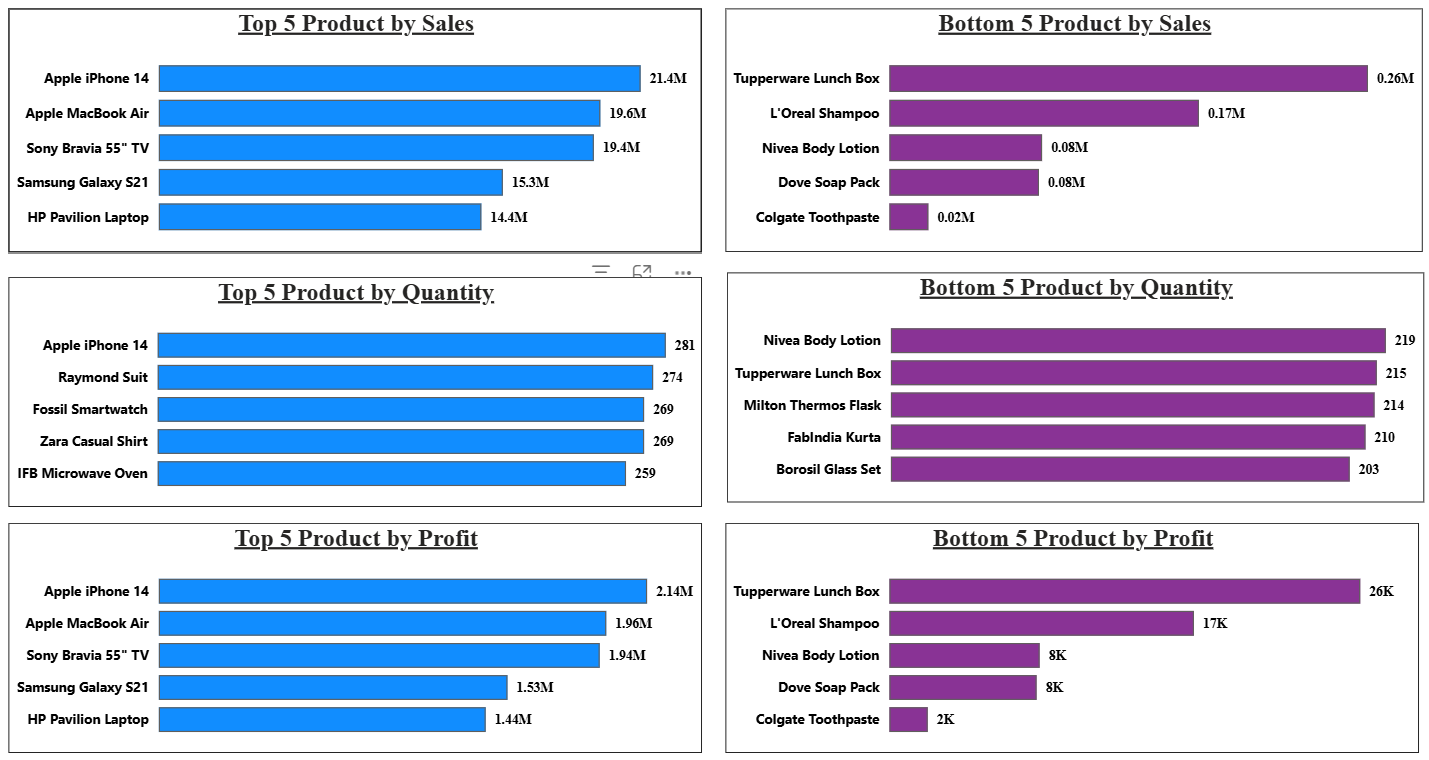

Layout of this report page (visuals, bound fields, positions):
{"tool":"powerbi","page":{"name":"Top/Bottom 5 Analysis","canvas":[1280,720],"ordinal":1},"visuals":[{"type":"barChart","title":"Top 5 Product by Sales","fields":{"Category":["Dim Product.Product Name"],"Y":["Sum(Fact Table.Net Sales)"]},"box":[16.7,25.8,613.6,215.2],"z":0},{"type":"barChart","title":"Bottom 5 Product by Sales","fields":{"Category":["Dim Product.Product Name"],"Y":["Sum(Fact Table.Net Sales)"]},"box":[651.5,25.8,616.7,215.2],"z":1000},{"type":"barChart","title":"Top 5 Product by Quantity","fields":{"Category":["Dim Product.Product Name"],"Y":["Sum(Fact Table.Units Sold)"]},"box":[16.7,262.1,613.6,203],"z":2000},{"type":"barChart","title":"Bottom 5 Product by Quantity","fields":{"Category":["Dim Product.Product Name"],"Y":["Sum(Fact Table.Units Sold)"]},"box":[653,259.1,616.7,203],"z":3000},{"type":"barChart","title":"Top 5 Product by Profit","fields":{"Category":["Dim Product.Product Name"],"Y":["Sum(Fact Table.Profit)"]},"box":[16.7,480.3,613.6,203],"z":4000},{"type":"barChart","title":"Bottom 5 Product by Profit","fields":{"Category":["Dim Product.Product Name"],"Y":["Sum(Fact Table.Profit)"]},"box":[651.5,480.3,613.6,203],"z":5000}]}

Visuals, with their boxes on the page's 1280x720 design canvas (x1, y1, x2, y2). These are canvas units, not pixel positions in the 1429x760 screenshot, which may show the page scaled, cropped or inside an application window:
"Top 5 Product by Sales" barChart: bbox(17, 26, 630, 241)
"Bottom 5 Product by Sales" barChart: bbox(652, 26, 1268, 241)
"Top 5 Product by Quantity" barChart: bbox(17, 262, 630, 465)
"Bottom 5 Product by Quantity" barChart: bbox(653, 259, 1270, 462)
"Top 5 Product by Profit" barChart: bbox(17, 480, 630, 683)
"Bottom 5 Product by Profit" barChart: bbox(652, 480, 1265, 683)
